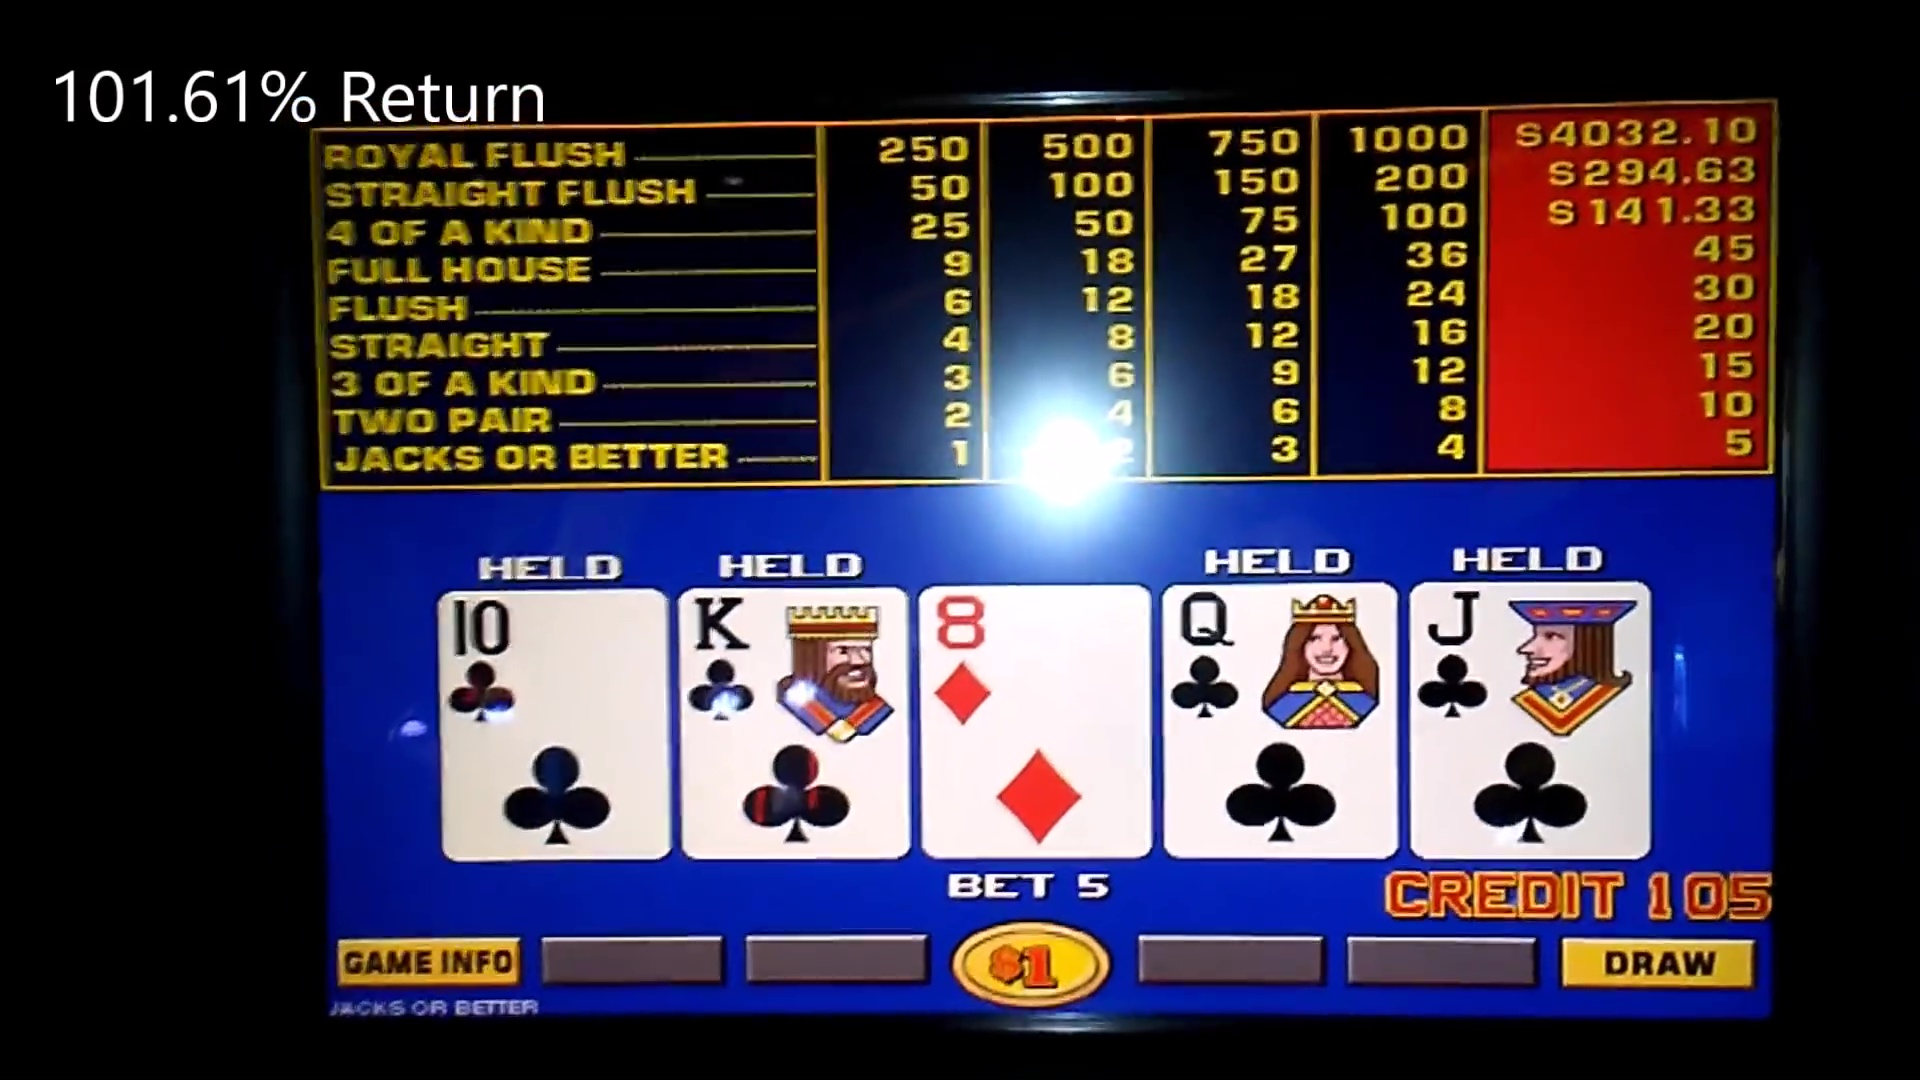8D: (920, 587, 1147, 746)
JC: (1412, 585, 1651, 745)
KC: (680, 588, 909, 738)
QC: (1168, 584, 1398, 746)
TC: (440, 593, 670, 731)
